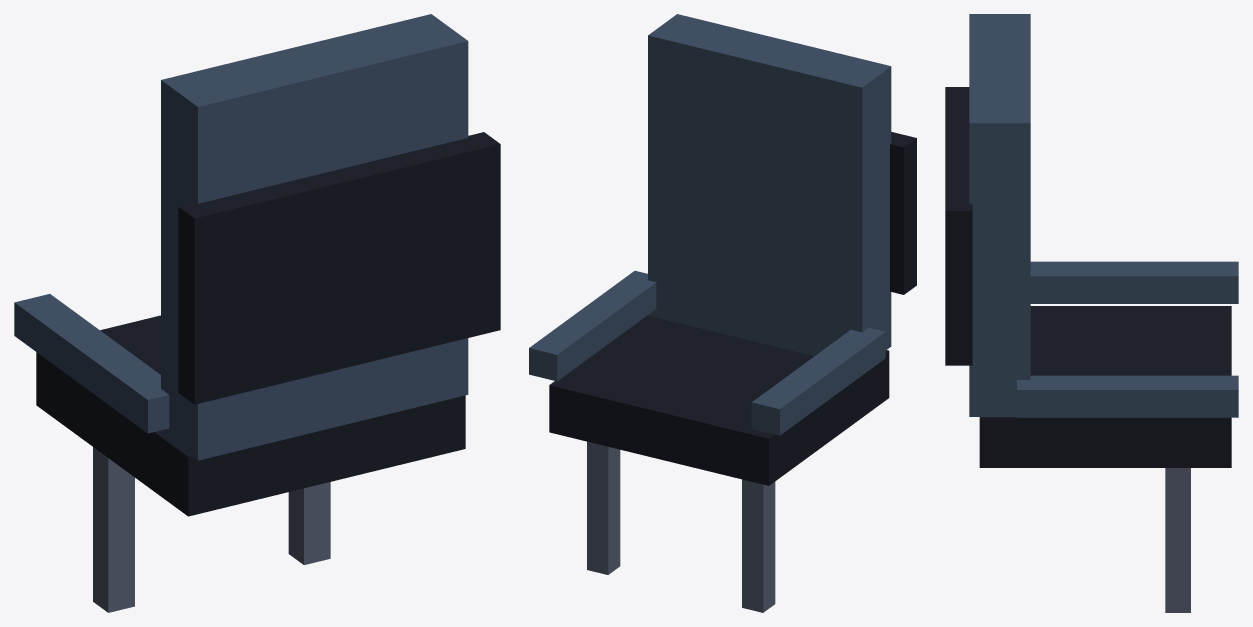
The model's file is env_chair.obj.
3 renders of one model, left to right at view 1: azimuth 30°, elevation 25°; view 2: azimuth 150°, elevation 25°; view 3: azimuth 270°, elevation 25°, orthographic. The views are drawn at different scales.
Bounding box in the file's own units: 0.89 × 1.61 × 0.86.
